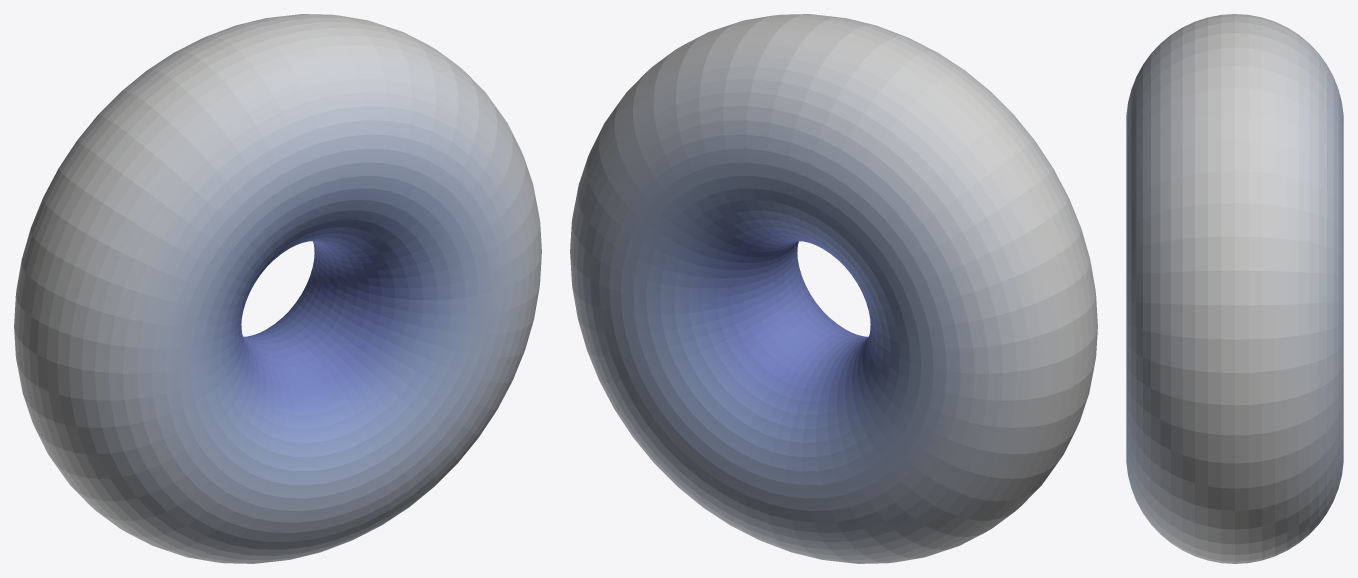
3 renders of one model, left to right at view 1: azimuth 30°, elevation 25°; view 2: azimuth 150°, elevation 25°; view 3: azimuth 270°, elevation 25°, orthographic. The views are drawn at different scales.
Visible parts, largest first — view 1: world; view 2: world; view 3: world.
Boxes of the visible parts, box(x1,y1,x2,y2) form: world: box(14, 14, 541, 563); world: box(570, 14, 1097, 563); world: box(1126, 14, 1343, 563).
Size of the model in its own units: 19.87 by 19.83 by 7.85.
